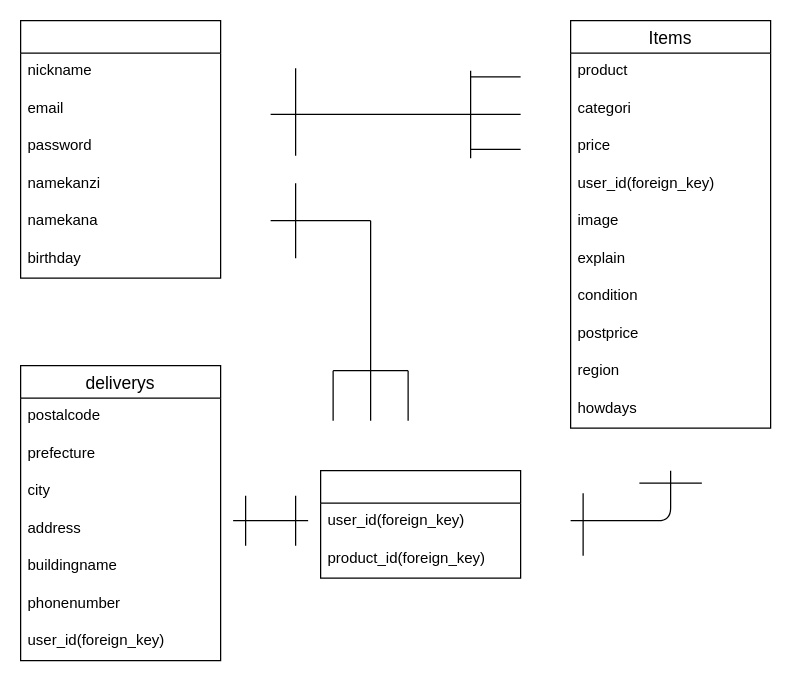
The diagram is 791 pixels wide and 681 high, and some of its shapes have lost their labels. The box of each missing label's shape, as (x1, y1, x2, y2) in pixels:
Buys: (319, 469, 521, 578)
Users: (19, 19, 221, 278)
